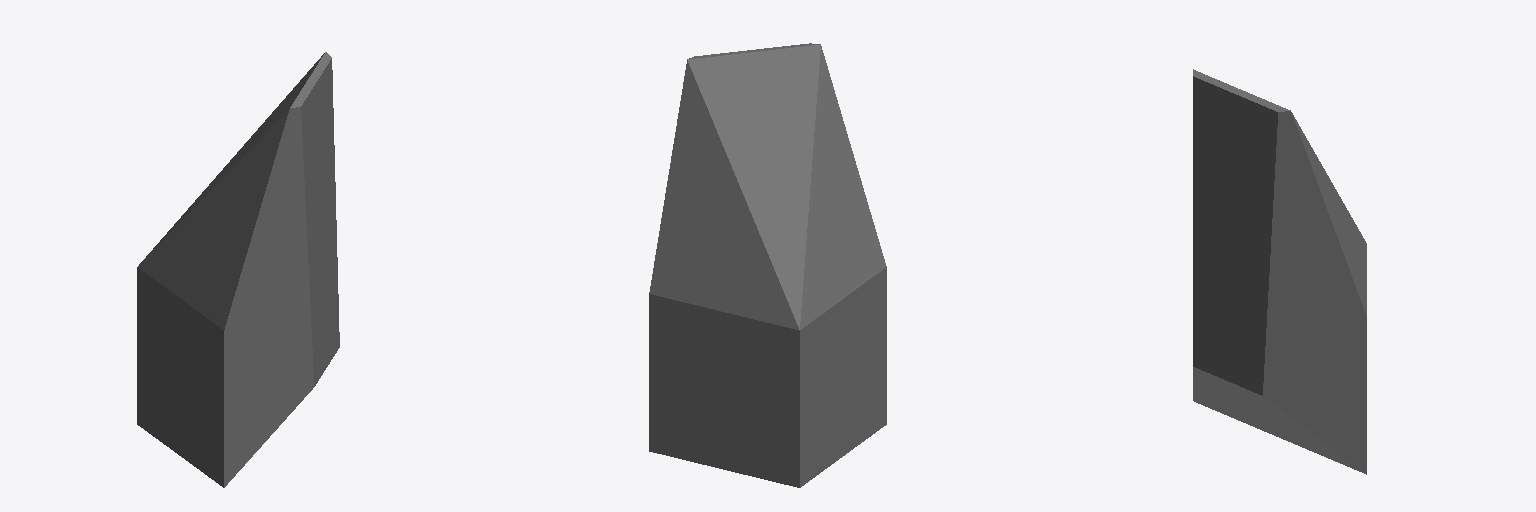
The model's file is Barrier_wall_corner_in.obj.
3 renders of one model, left to right at view 1: azimuth 30°, elevation 25°; view 2: azimuth 150°, elevation 25°; view 3: azimuth 270°, elevation 25°, orthographic.
Visible parts, largest first — view 1: Barrier_wall_corner_in; view 2: Barrier_wall_corner_in; view 3: Barrier_wall_corner_in.
Part boxes in pixels (bbox=[...]): Barrier_wall_corner_in: bbox=[137, 52, 339, 487]; Barrier_wall_corner_in: bbox=[649, 43, 886, 487]; Barrier_wall_corner_in: bbox=[1193, 69, 1366, 474].
Bounding box in the file's own units: 1 × 2.31 × 1.